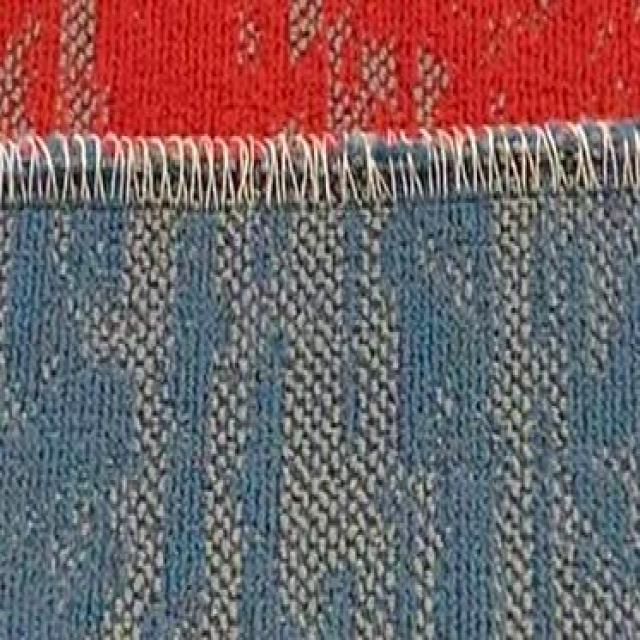gray stitch: (4, 126, 638, 215)
